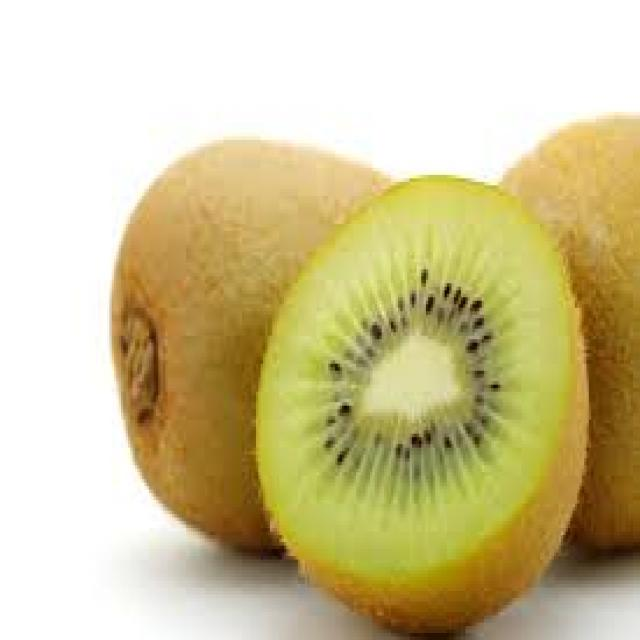organic waste: (254, 172, 586, 636), (109, 130, 398, 552), (496, 108, 638, 556)
